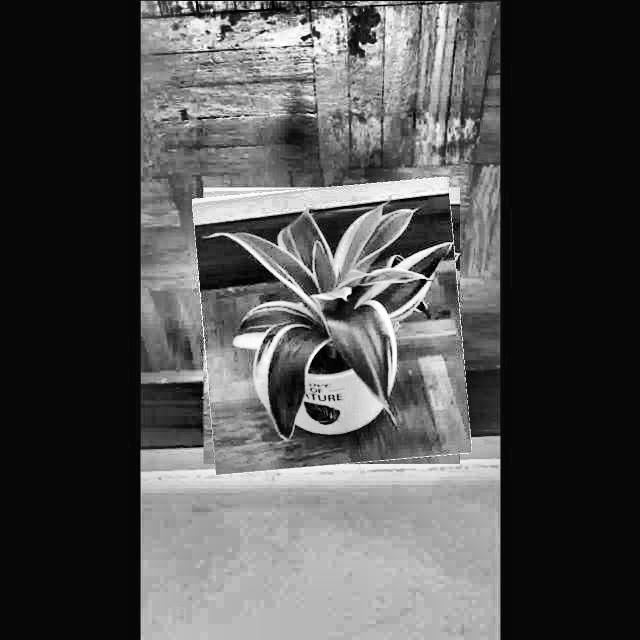plants: (197, 182, 466, 469)
